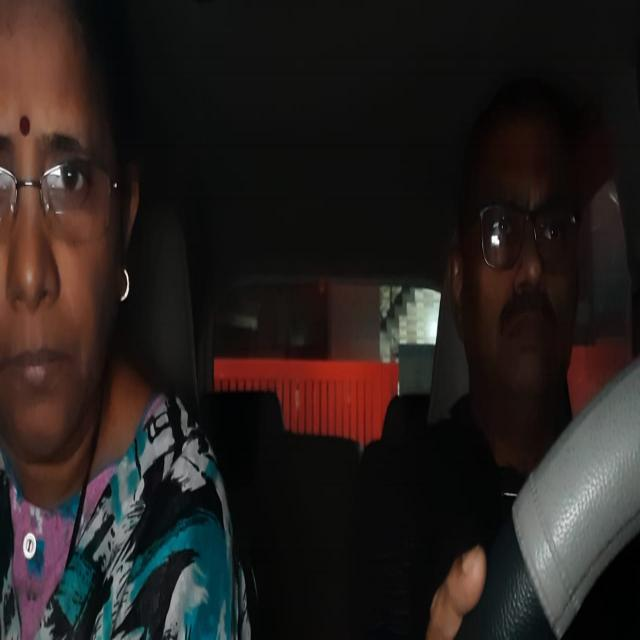person: (0, 0, 143, 468), (441, 64, 596, 422)
